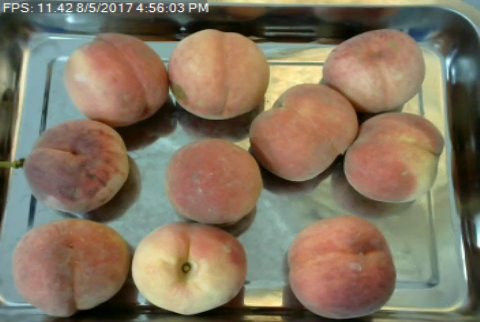Peach: (287, 215, 396, 319), (12, 219, 129, 315), (248, 82, 360, 181), (134, 222, 247, 316), (25, 118, 133, 212), (65, 32, 169, 126), (318, 27, 427, 115), (170, 29, 274, 121), (342, 112, 446, 202), (164, 137, 262, 226)
